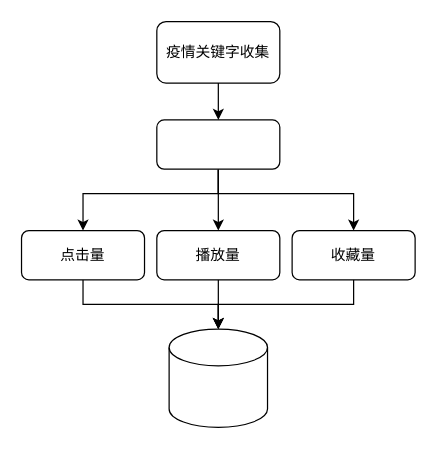
This 437x449 diagram has some shape labels left out. Here are the shapes that lost their labels. From the top down, the centre of each, then its label:
(218,144): 疫情时间轴
(218,377): 弹幕视频库
